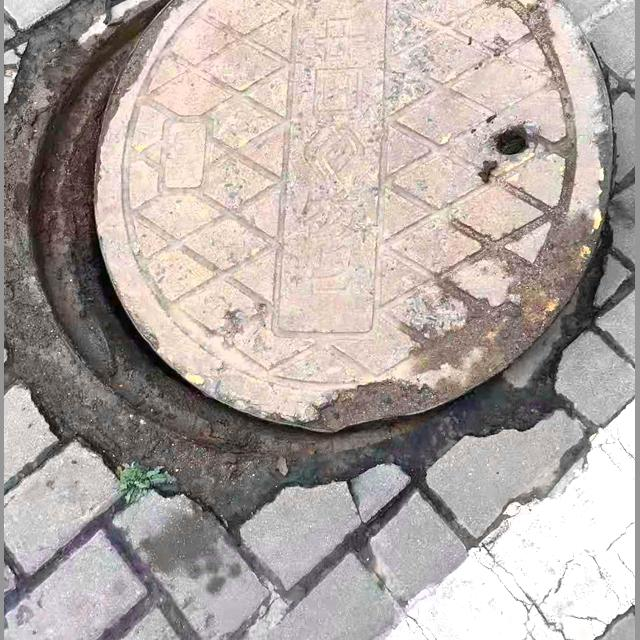uncovered: (4, 0, 612, 455)
